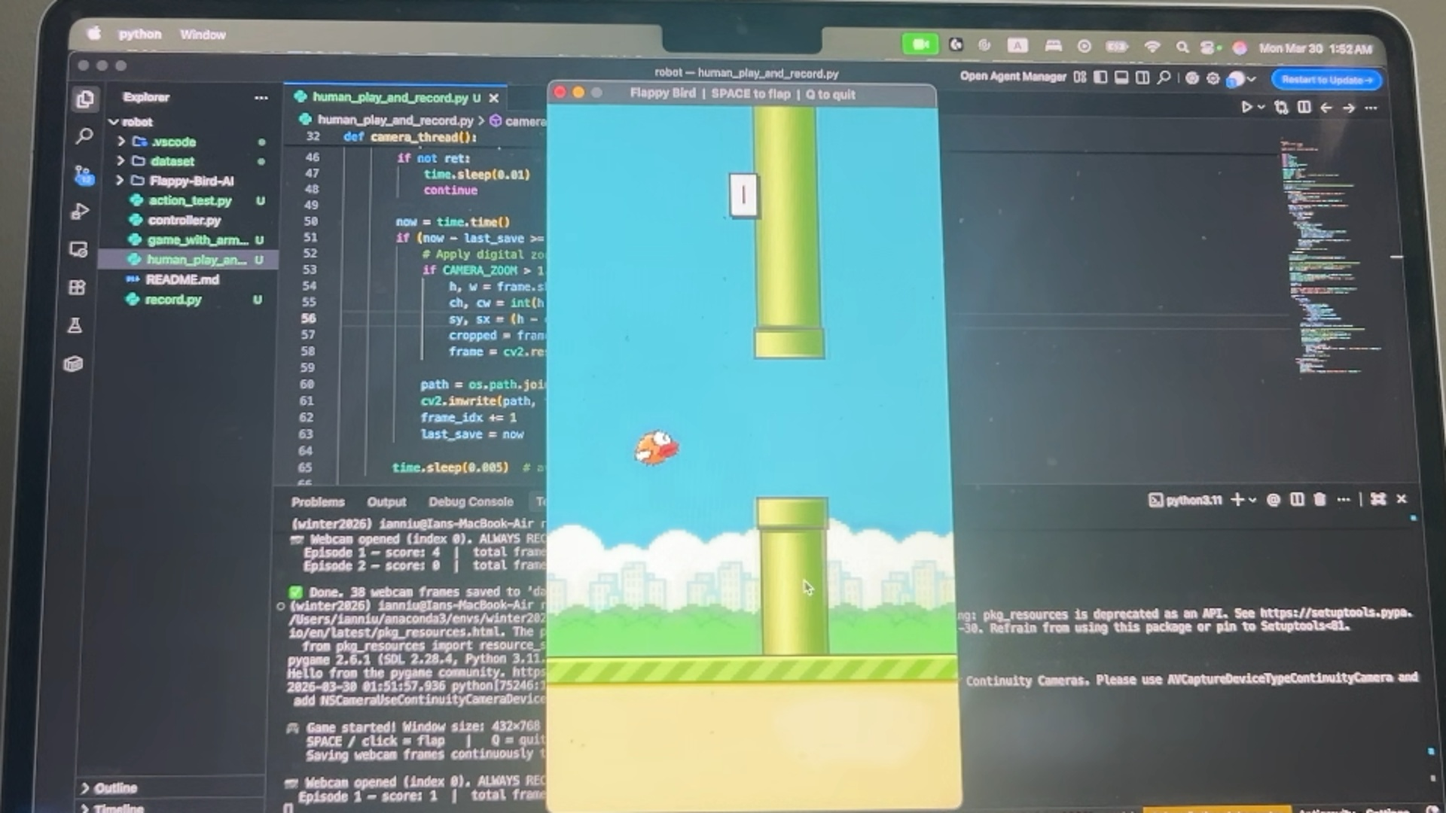bird: (636, 423, 678, 468)
green pipes: (754, 106, 825, 356), (759, 499, 830, 655)
